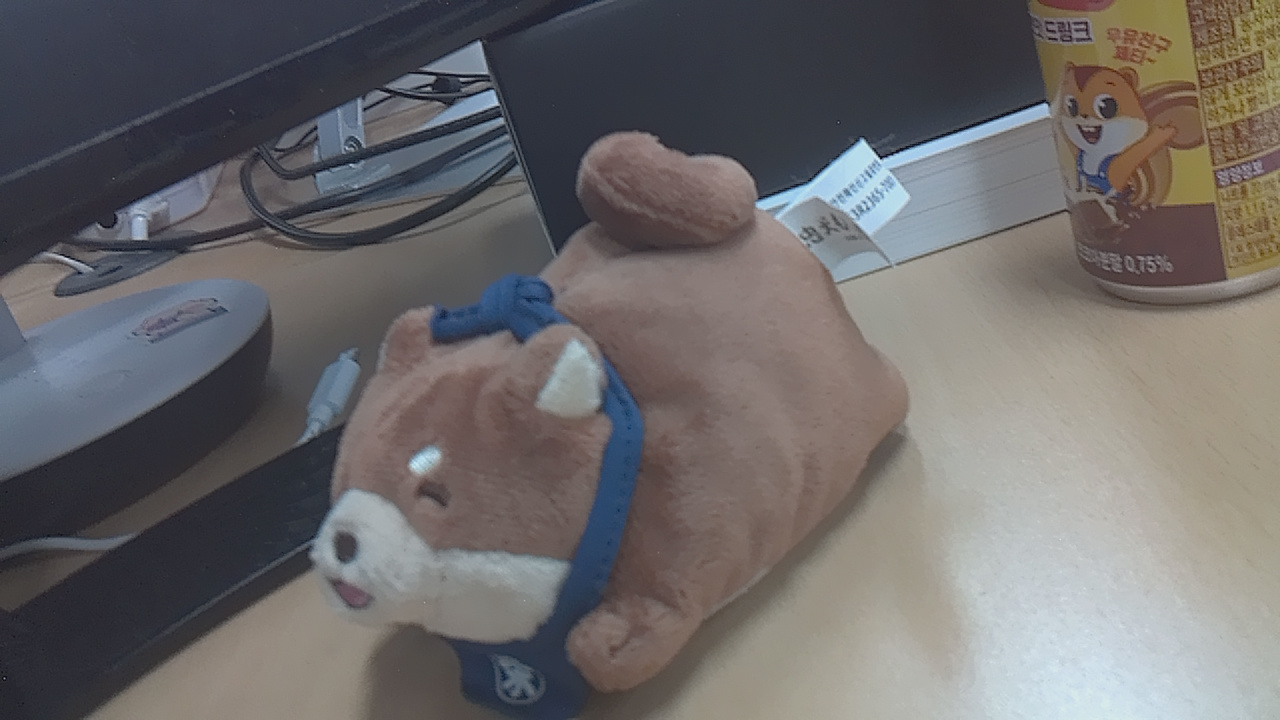cuteDog: (307, 146, 974, 720)
